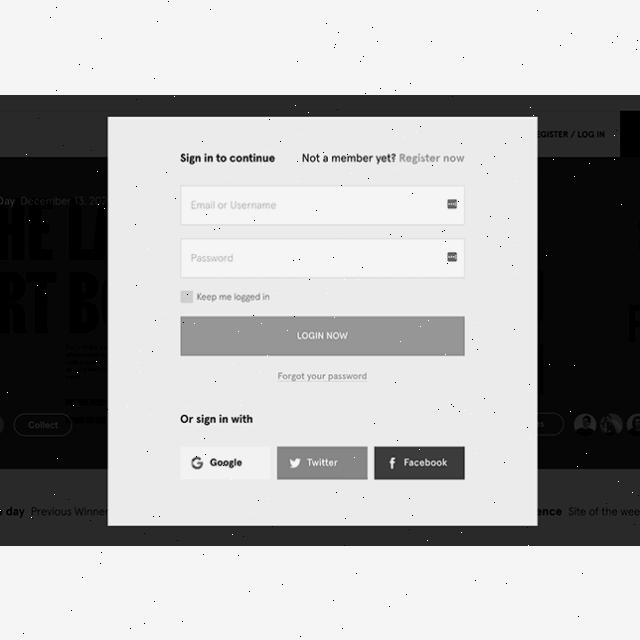QLabel: (178, 150, 276, 163), (300, 150, 396, 163), (274, 371, 370, 384), (179, 412, 253, 423), (398, 152, 464, 164), (196, 291, 270, 301), (403, 456, 447, 466), (210, 457, 242, 468), (307, 457, 337, 467)
VBtn: (179, 314, 466, 356), (276, 444, 368, 480), (374, 446, 466, 480), (181, 446, 271, 480)
VCard: (105, 114, 542, 528)
VCheckbox: (180, 288, 193, 302)
VIcon: (288, 456, 302, 468), (191, 456, 203, 468), (389, 455, 395, 469)
VTextField: (178, 236, 466, 278), (180, 183, 466, 225)
